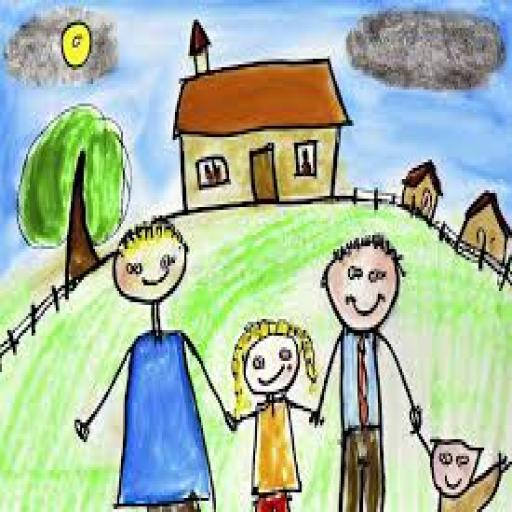person: (66, 214, 228, 509), (308, 230, 424, 506), (220, 304, 325, 508), (403, 405, 508, 512)
